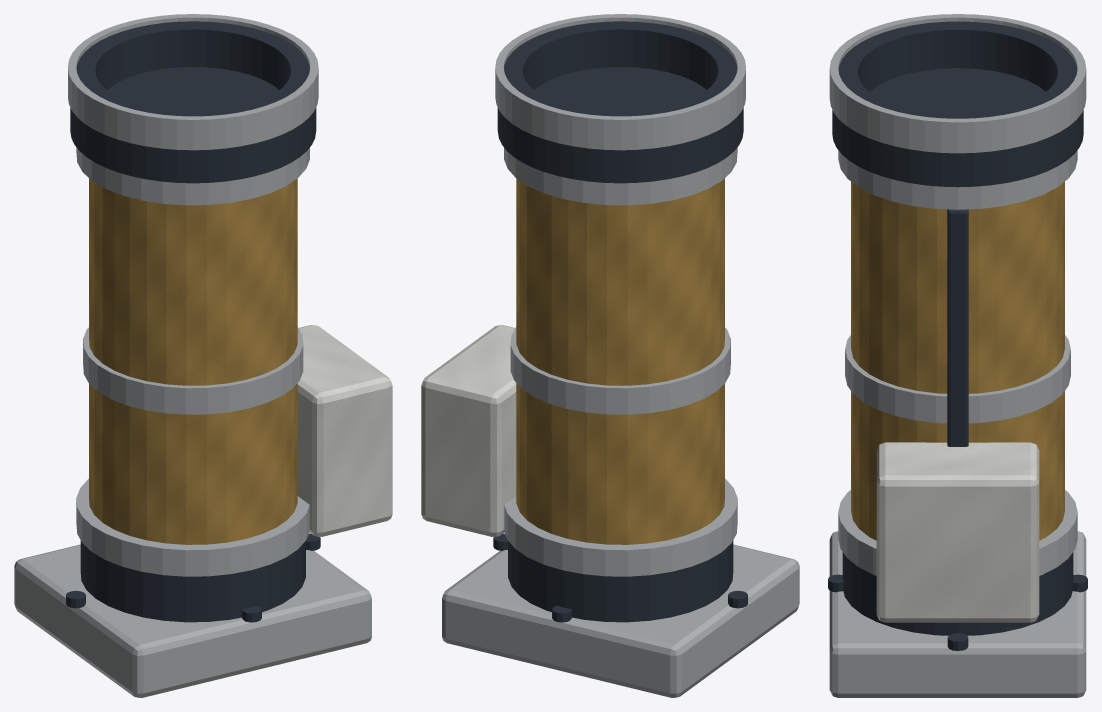
Rendered from probe_long_range_camera.glb.
The picture shows the model from 3 angles, left to right: view 1: azimuth 30°, elevation 25°; view 2: azimuth 150°, elevation 25°; view 3: azimuth 270°, elevation 25°; orthographic projection. The views are drawn at different scales.
Parts seen in each view (by area): view 1: Camera_Tube, Camera_Mount, Aperture_Baffle, Camera_Electronics, Aperture_Rim, Camera_Base, Tube_SupportRing, Tube_SupportRing.001, Optical_Element, Tube_SupportRing.002; view 2: Camera_Tube, Camera_Mount, Aperture_Baffle, Camera_Electronics, Aperture_Rim, Camera_Base, Tube_SupportRing, Tube_SupportRing.001, Optical_Element, Tube_SupportRing.002; view 3: Camera_Tube, Camera_Electronics, Aperture_Baffle, Camera_Mount, Aperture_Rim, Tube_SupportRing.001, Optical_Element, Tube_SupportRing.002, Harness_Conduit, Camera_Base, Tube_SupportRing.
Part boxes in pixels (x1,y1,x2,y2): Camera_Tube: (89,178,297,544); Camera_Mount: (14,544,371,697); Aperture_Baffle: (70,21,316,183); Camera_Electronics: (297,325,392,536); Aperture_Rim: (68,14,318,150); Camera_Base: (80,540,305,622); Tube_SupportRing: (76,478,309,576); Tube_SupportRing.001: (83,327,303,414); Optical_Element: (107,67,278,111); Tube_SupportRing.002: (76,147,309,205); Camera_Tube: (516,178,724,544); Camera_Mount: (442,544,799,697); Aperture_Baffle: (497,21,743,183); Camera_Electronics: (421,325,516,536); Aperture_Rim: (495,14,745,150); Camera_Base: (508,540,733,622); Tube_SupportRing: (504,478,737,576); Tube_SupportRing.001: (510,327,730,414); Optical_Element: (535,67,706,111); Tube_SupportRing.002: (504,147,737,205); Camera_Tube: (851,182,1064,540); Camera_Electronics: (876,442,1039,622); Aperture_Baffle: (832,21,1083,187); Camera_Mount: (829,531,1086,697); Aperture_Rim: (829,14,1086,153); Tube_SupportRing.001: (845,335,1070,423); Optical_Element: (870,68,1045,114); Tube_SupportRing.002: (838,150,1077,209); Harness_Conduit: (947,209,968,446); Camera_Base: (842,552,1073,635); Tube_SupportRing: (838,490,1077,575).
Bounding box in the file's own units: 0.399 × 0.74 × 0.304.
Materials: 4 (2 with a texture image).
